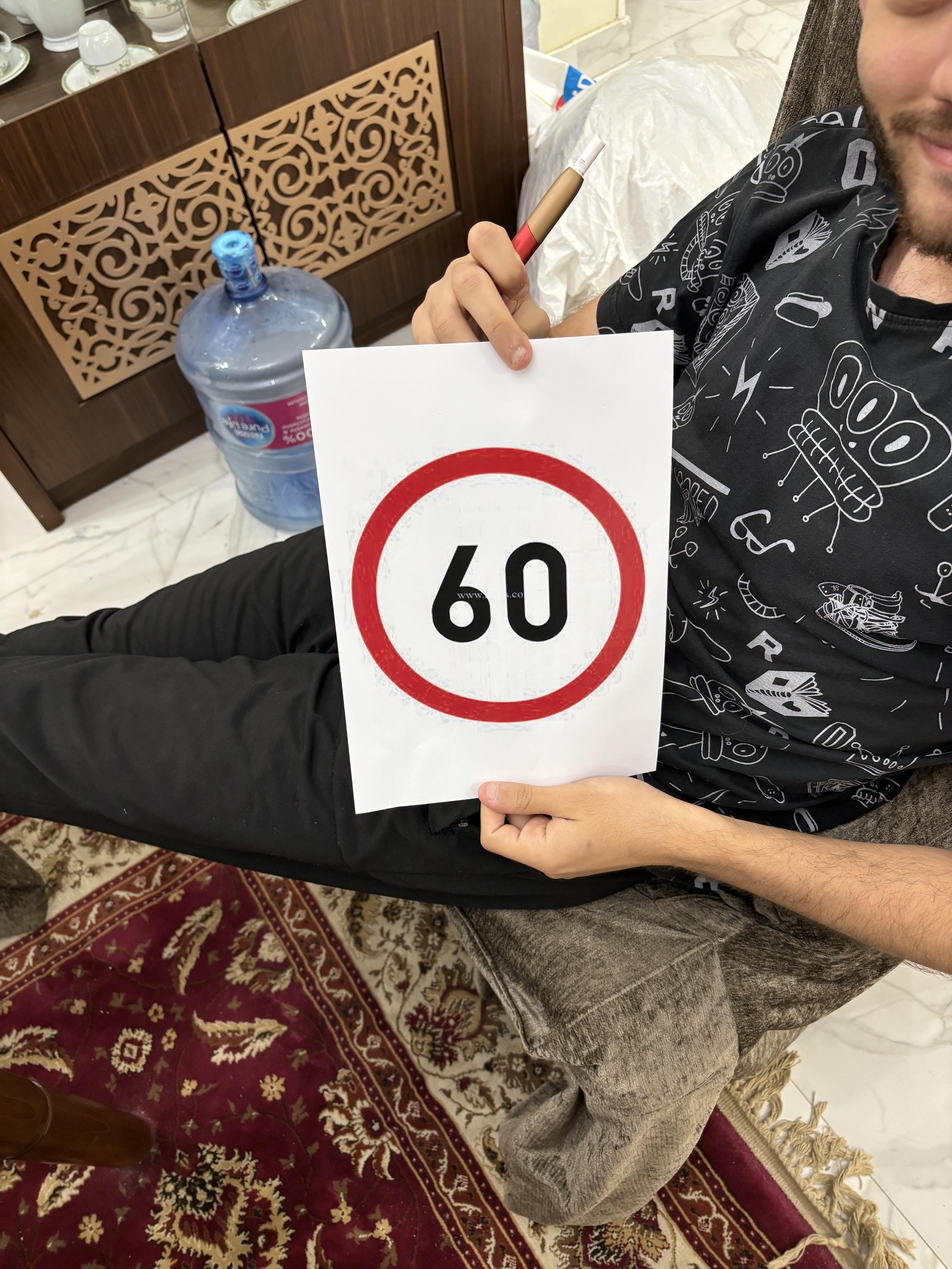60-Speed: (343, 438, 660, 732)
